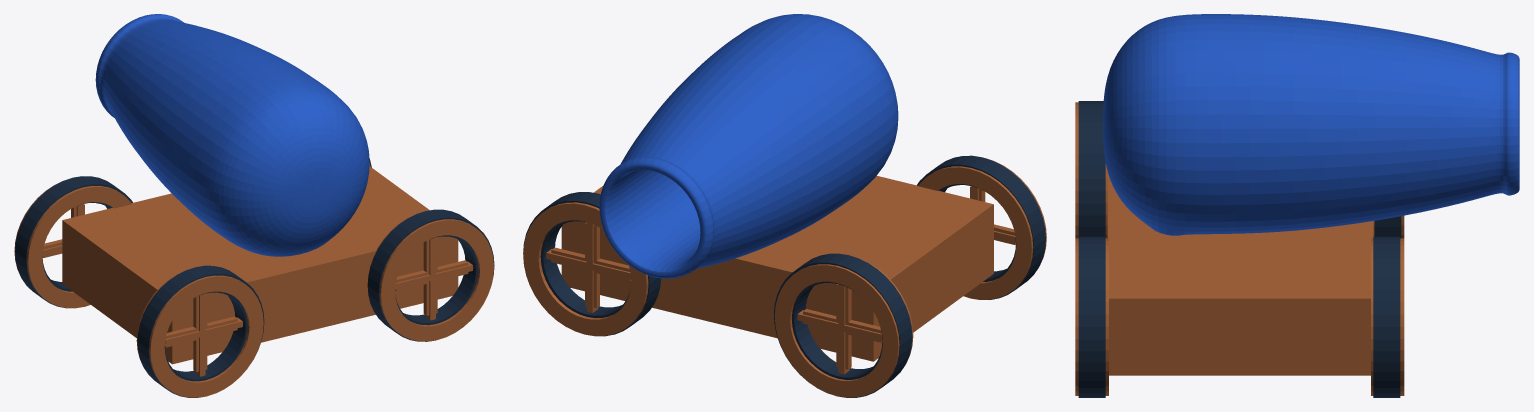
Rendered from pushka1.fbx.
3 views of the same model, side by side, from view 1: azimuth 30°, elevation 25°; view 2: azimuth 150°, elevation 25°; view 3: azimuth 270°, elevation 25° (orthographic). The views are drawn at different scales.
Visible parts, largest first — view 1: Cylinder, Cylinder.002, Cylinder.001, Cylinder.004, Cylinder.003, Cylinder.006; view 2: Cylinder, Cylinder.002, Cylinder.001, Cylinder.006, Cylinder.004, Cylinder.005; view 3: Cylinder, Cylinder.002, Cylinder.003, Cylinder.005, Cylinder.004, Cylinder.001, Cylinder.006.
Part boxes in pixels (<box>): Cylinder: <box>95,14,369,256</box>; Cylinder.002: <box>42,166,473,376</box>; Cylinder.001: <box>14,163,493,397</box>; Cylinder.004: <box>137,265,264,397</box>; Cylinder.003: <box>367,209,494,341</box>; Cylinder.006: <box>15,176,132,308</box>; Cylinder: <box>599,14,898,278</box>; Cylinder.002: <box>546,176,1015,374</box>; Cylinder.001: <box>523,158,1046,397</box>; Cylinder.006: <box>774,253,912,397</box>; Cylinder.004: <box>917,155,1045,299</box>; Cylinder.005: <box>523,192,661,336</box>; Cylinder: <box>1103,14,1519,235</box>; Cylinder.002: <box>1107,172,1373,375</box>; Cylinder.003: <box>1078,236,1105,397</box>; Cylinder.005: <box>1373,236,1400,397</box>; Cylinder.004: <box>1078,101,1105,236</box>; Cylinder.001: <box>1075,102,1404,395</box>; Cylinder.006: <box>1374,216,1401,238</box>.
Bounding box in the file's own units: 218 × 150 × 200.
